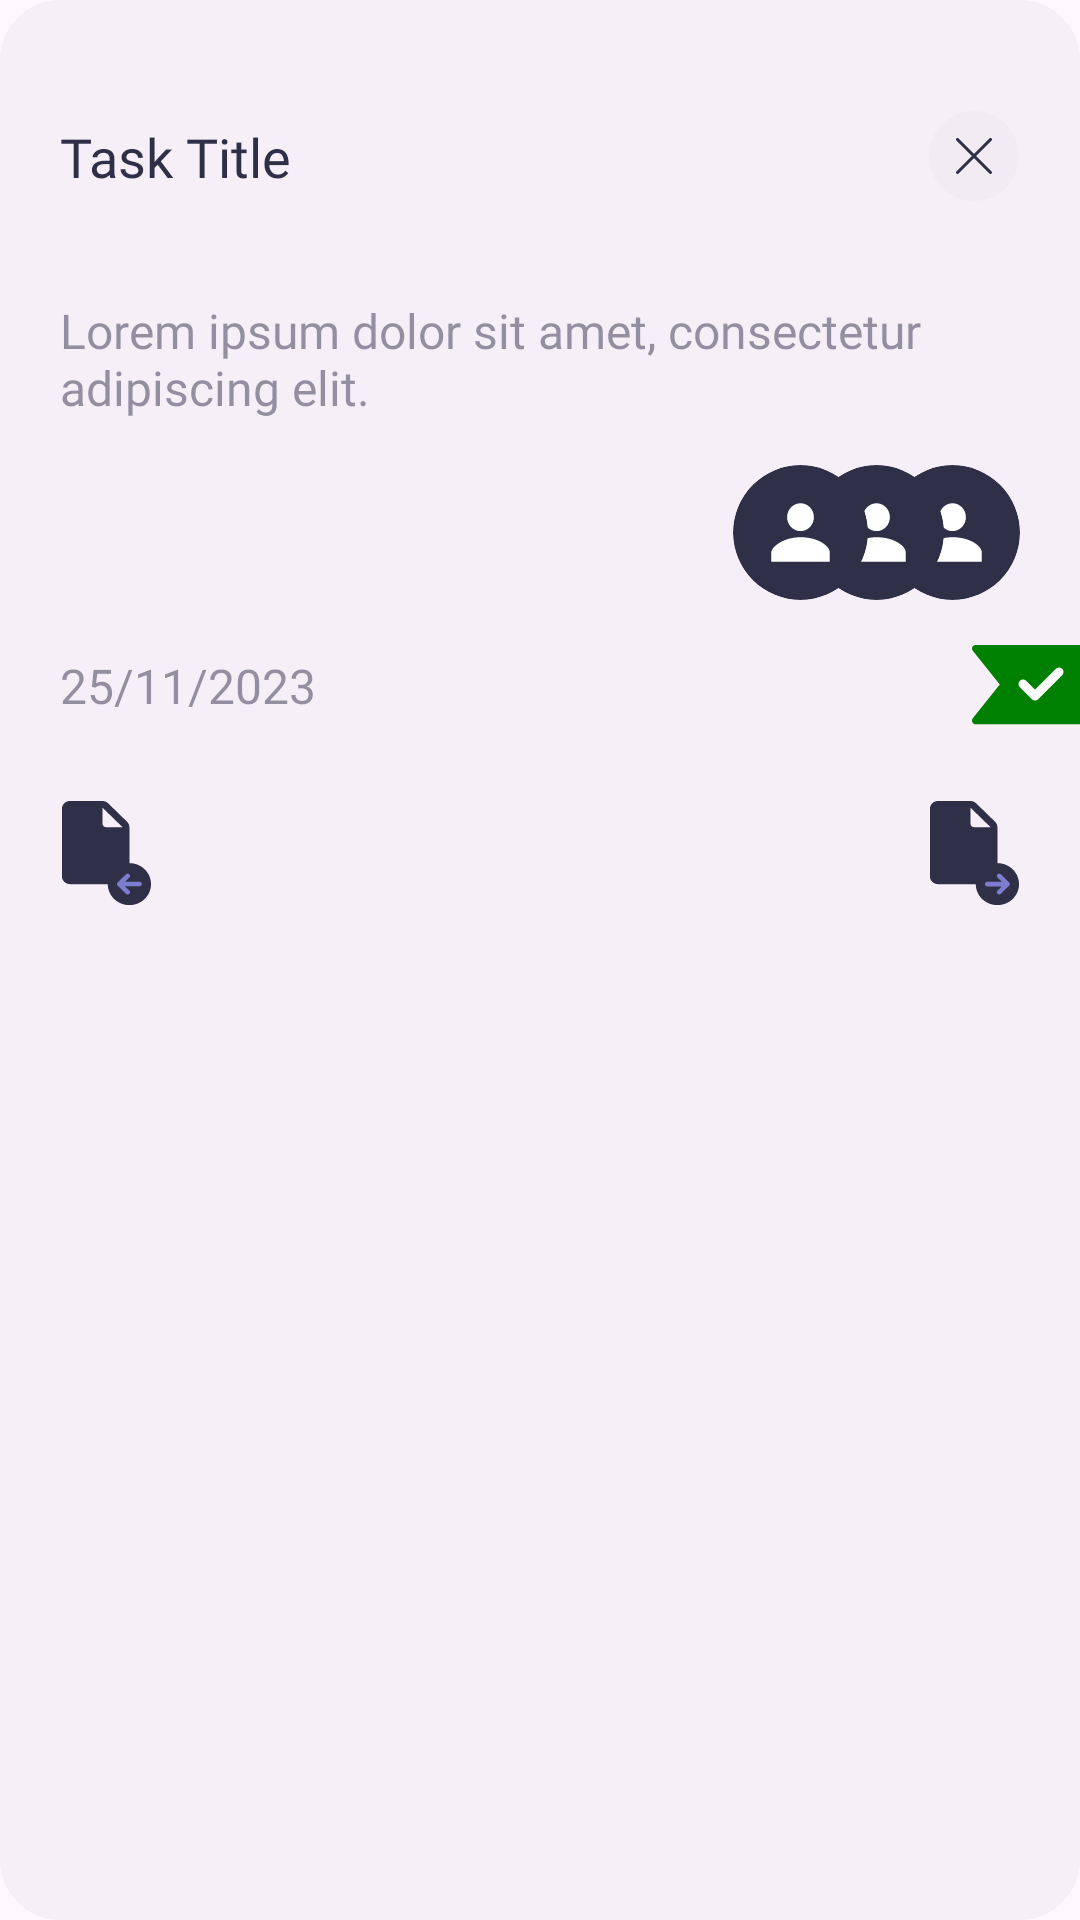

Screen size 1080px x 1920px. Icon name, then its center in pixels as point (x, y):
bookmark complete: point (1026, 685)
close: point (974, 156)
